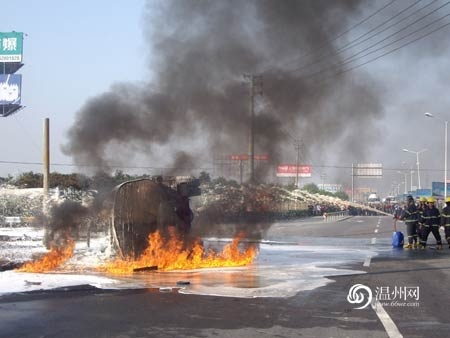fire: (94, 224, 256, 272), (12, 238, 75, 271)
